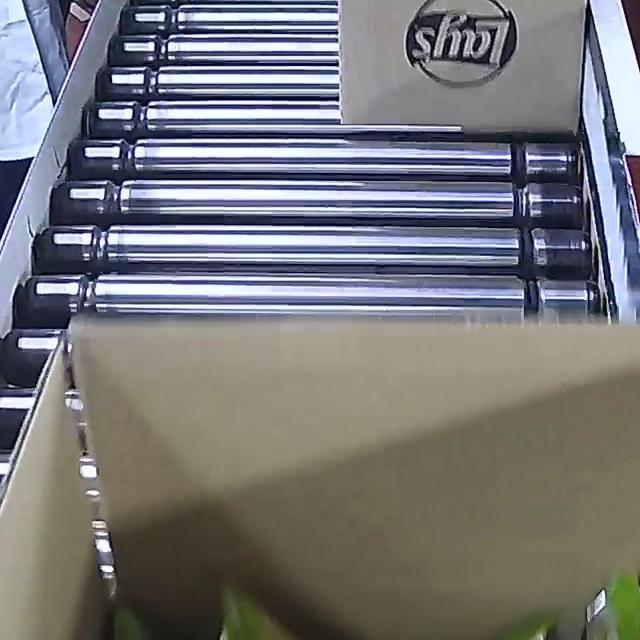yogurt: (117, 537, 640, 640)
